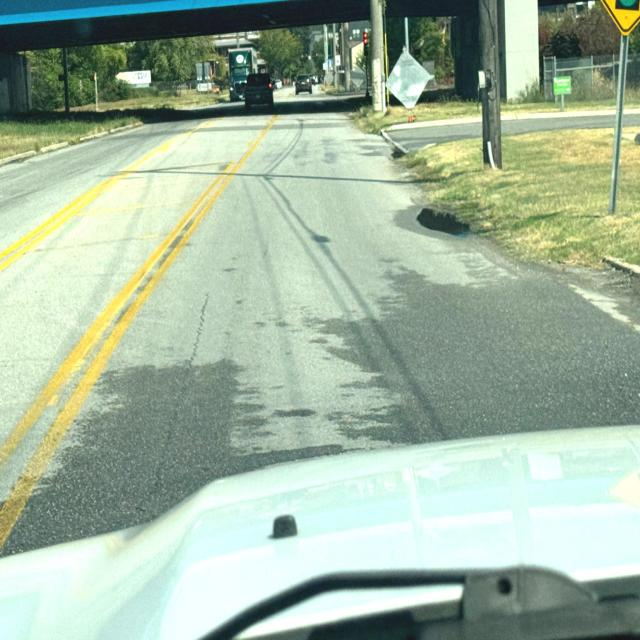pothole: (410, 197, 472, 243), (389, 147, 407, 163)
